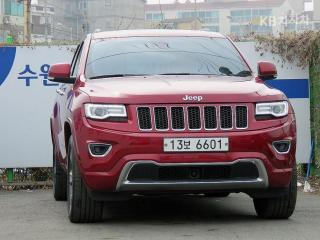0: (210, 139, 217, 150)
1: (170, 139, 176, 151), (217, 138, 223, 149)
3: (177, 139, 184, 151)
6: (202, 139, 210, 149), (196, 139, 202, 151)
보: (183, 139, 191, 150)
